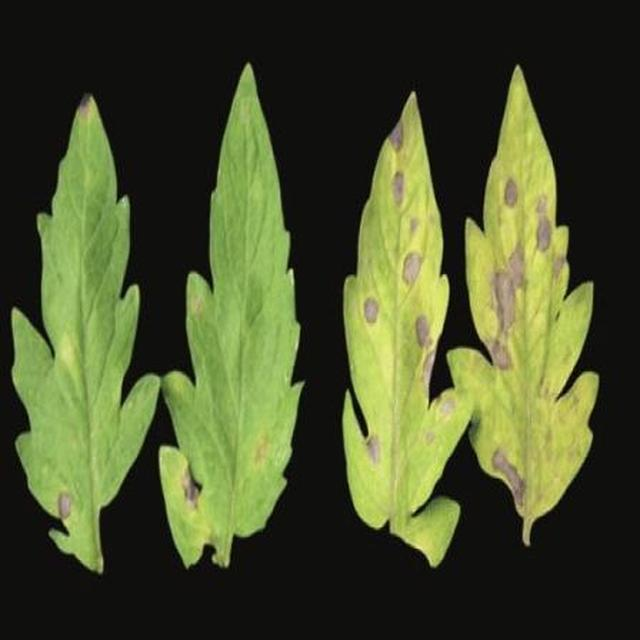Early Blight Leaf: (122, 418, 640, 640)
